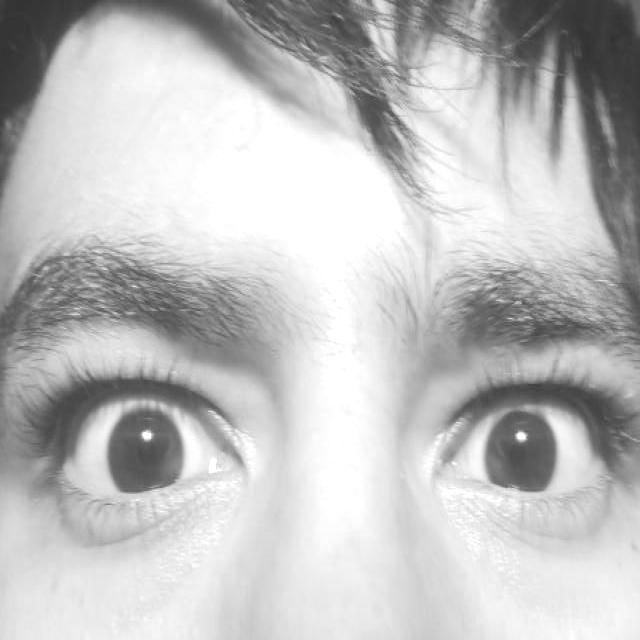real: (9, 310, 640, 570)
